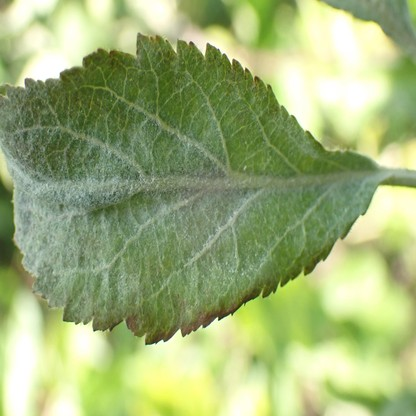powdery_mildew: (1, 33, 383, 346)
